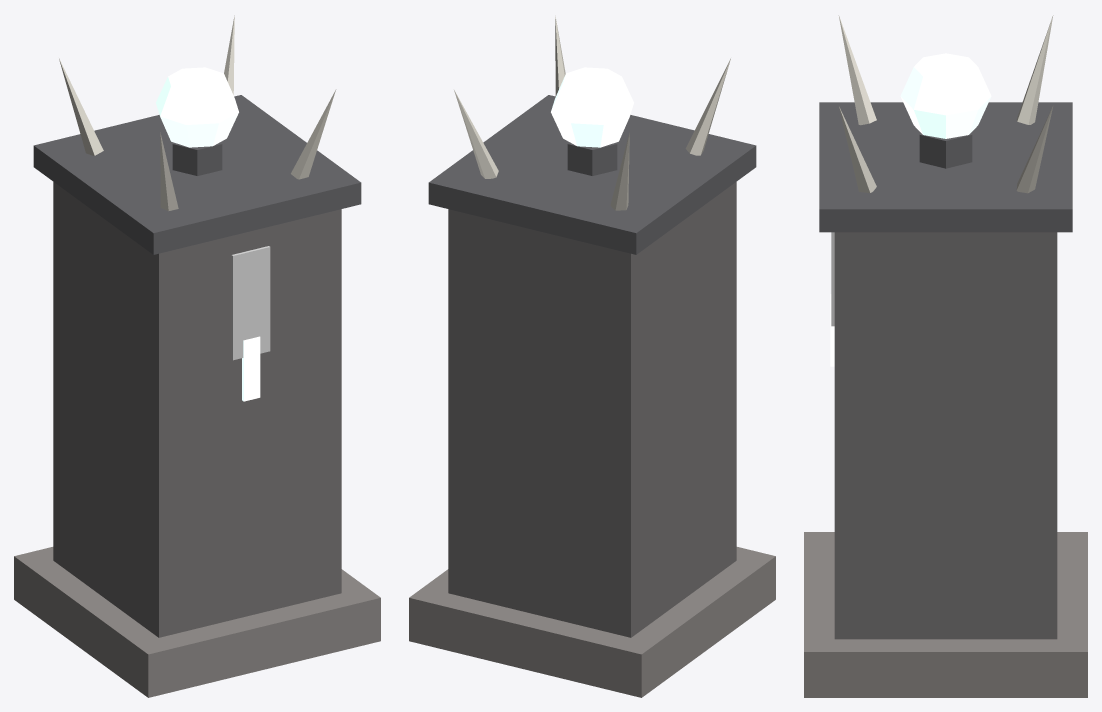
3 views of the same model, side by side, from view 1: azimuth 30°, elevation 25°; view 2: azimuth 150°, elevation 25°; view 3: azimuth 270°, elevation 25° (orthographic). The views are drawn at different scales.
Parts seen in each view (by area): view 1: body; view 2: body; view 3: body.
Part boxes in pixels (bbox=[...]): body: bbox=[14, 15, 380, 697]; body: bbox=[409, 15, 775, 697]; body: bbox=[804, 15, 1087, 697].
Size of the model in its own units: 5.6 by 12.7 by 5.6.
